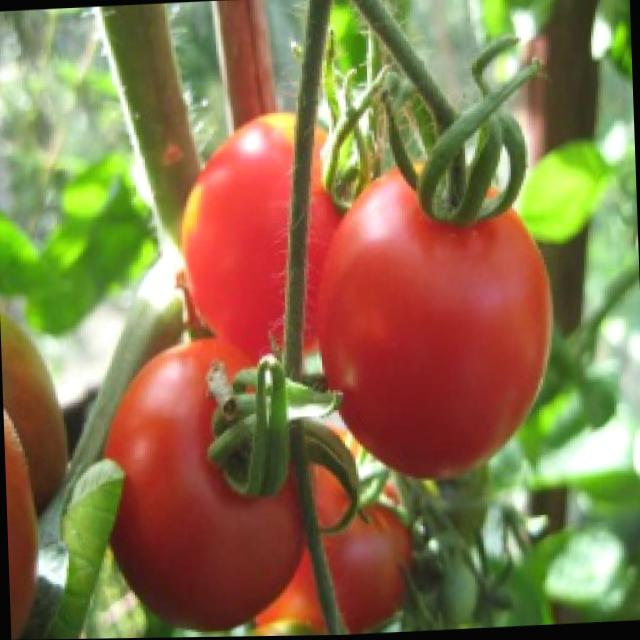tomato: (310, 156, 556, 476), (98, 334, 330, 624), (178, 113, 347, 393)
